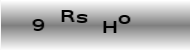9: (31, 18, 45, 31)
H: (102, 19, 116, 33)
R: (60, 9, 75, 22)
o: (117, 15, 131, 24)
s: (76, 13, 88, 24)
